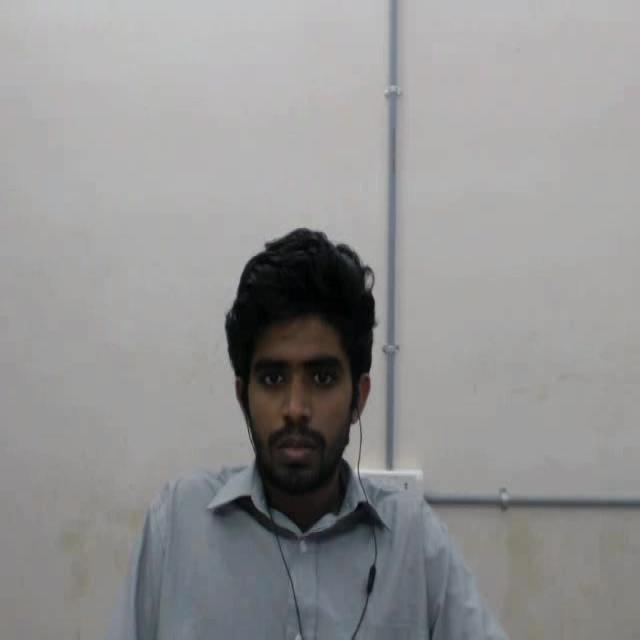Engaged: (199, 209, 399, 521)
